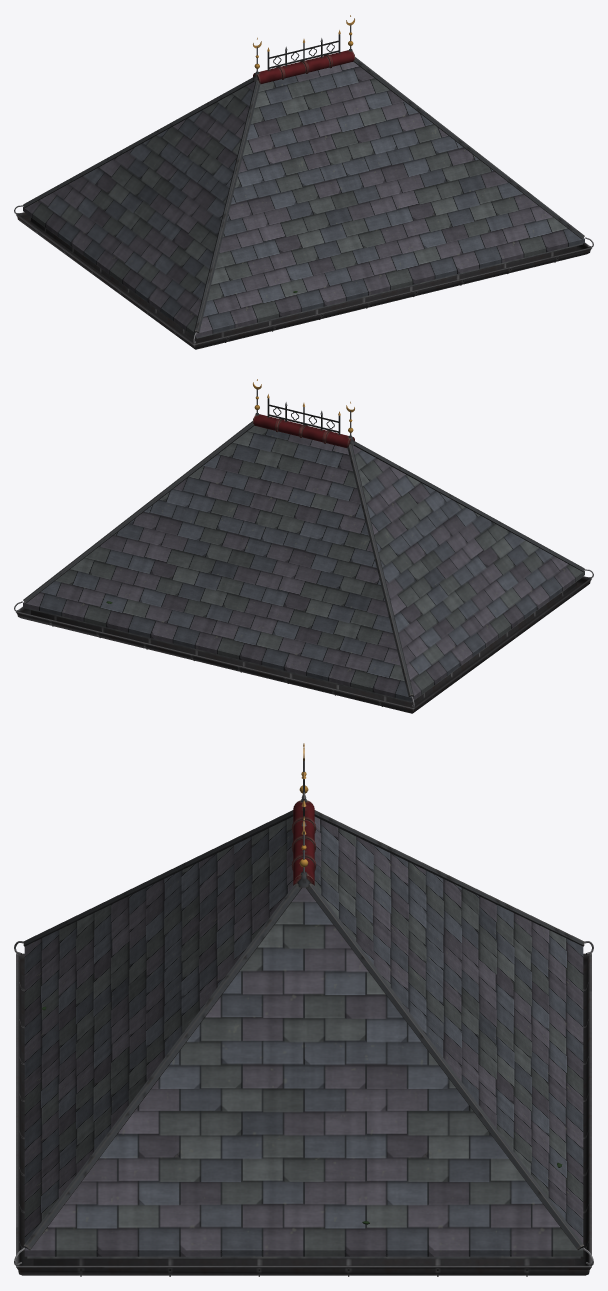
The model's file is HipRoof.fbx.
3 views of the same model, one above another, from view 1: azimuth 30°, elevation 25°; view 2: azimuth 150°, elevation 25°; view 3: azimuth 270°, elevation 25° (orthographic). The views are drawn at different scales.
Parts seen in each view (by area): view 1: HipRoof_Slate, HipRoof_Main, HipRoof_Lead; view 2: HipRoof_Slate, HipRoof_Main, HipRoof_Lead; view 3: HipRoof_Slate, HipRoof_Main, HipRoof_Lead.
Boxes of the visible parts, x1,y1,x2,y2 form: HipRoof_Slate: (23, 61, 584, 337); HipRoof_Main: (14, 15, 593, 349); HipRoof_Lead: (25, 213, 582, 338); HipRoof_Slate: (23, 425, 584, 701); HipRoof_Main: (14, 379, 593, 713); HipRoof_Lead: (25, 577, 582, 702); HipRoof_Slate: (24, 816, 583, 1256); HipRoof_Main: (14, 743, 593, 1276); HipRoof_Lead: (27, 1256, 580, 1258).
Size of the model in its own units: 1802 by 925 by 1402.
